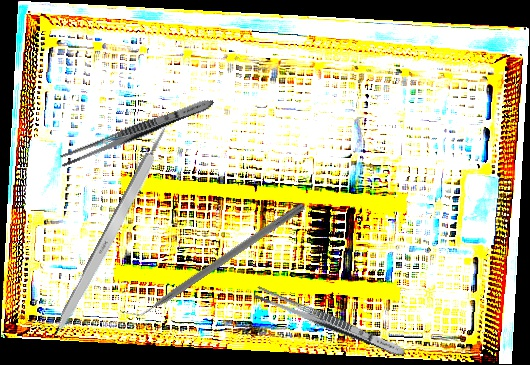Chopper: (120, 192, 307, 327)
Dressing Forceps: (57, 93, 217, 171), (252, 284, 408, 361)
Scalpel Handle: (50, 124, 175, 340)
